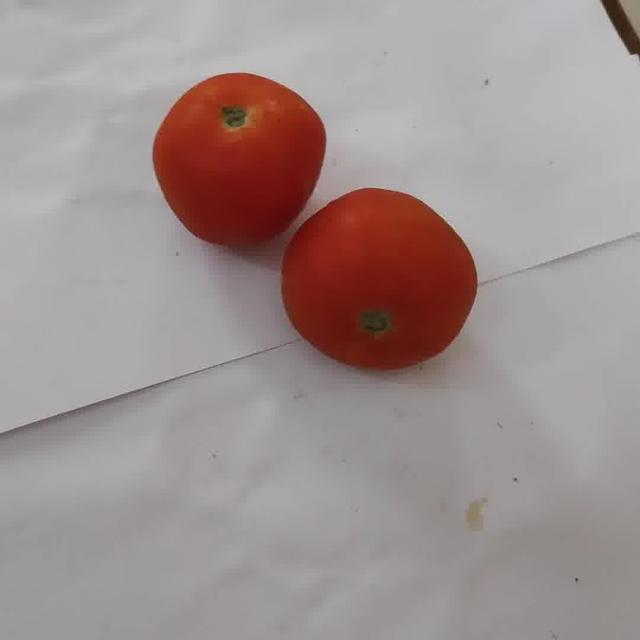Tomato: (281, 188, 476, 369), (152, 73, 325, 247)
